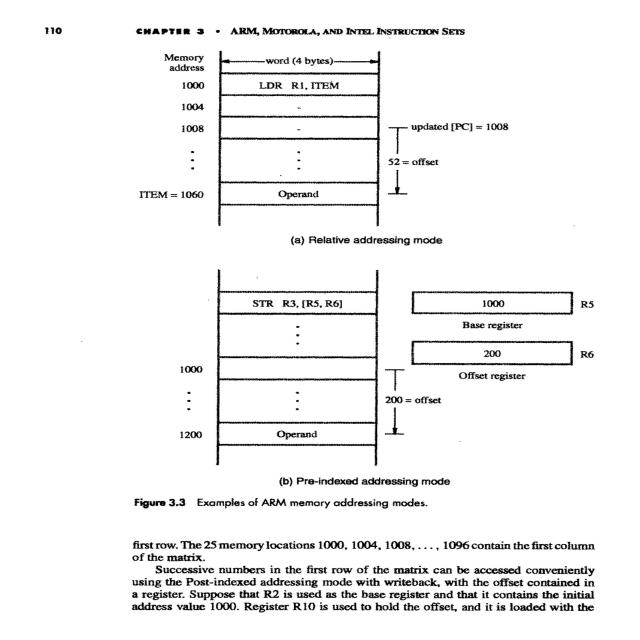diagram: (124, 43, 616, 530)
